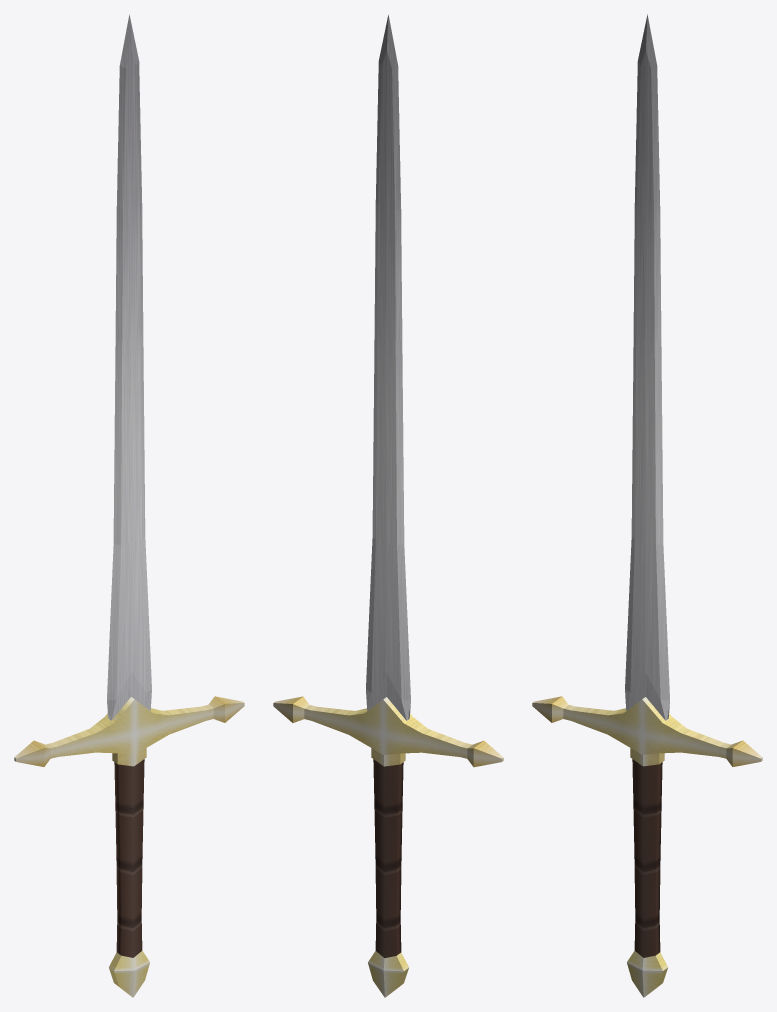
The model's file is Sword.FBX.
3 renders of one model, left to right at view 1: azimuth 30°, elevation 25°; view 2: azimuth 150°, elevation 25°; view 3: azimuth 330°, elevation 25°, orthographic.
Parts seen in each view (by area): view 1: Sword; view 2: Sword; view 3: Sword.
Part boxes in pixels (x1,y1,x2,y2): Sword: (14,14,244,997); Sword: (273,14,503,997); Sword: (532,14,762,997).
Bounding box in the file's own units: 0.2804 × 1.15 × 0.0224.
1 material, 1 textured.
